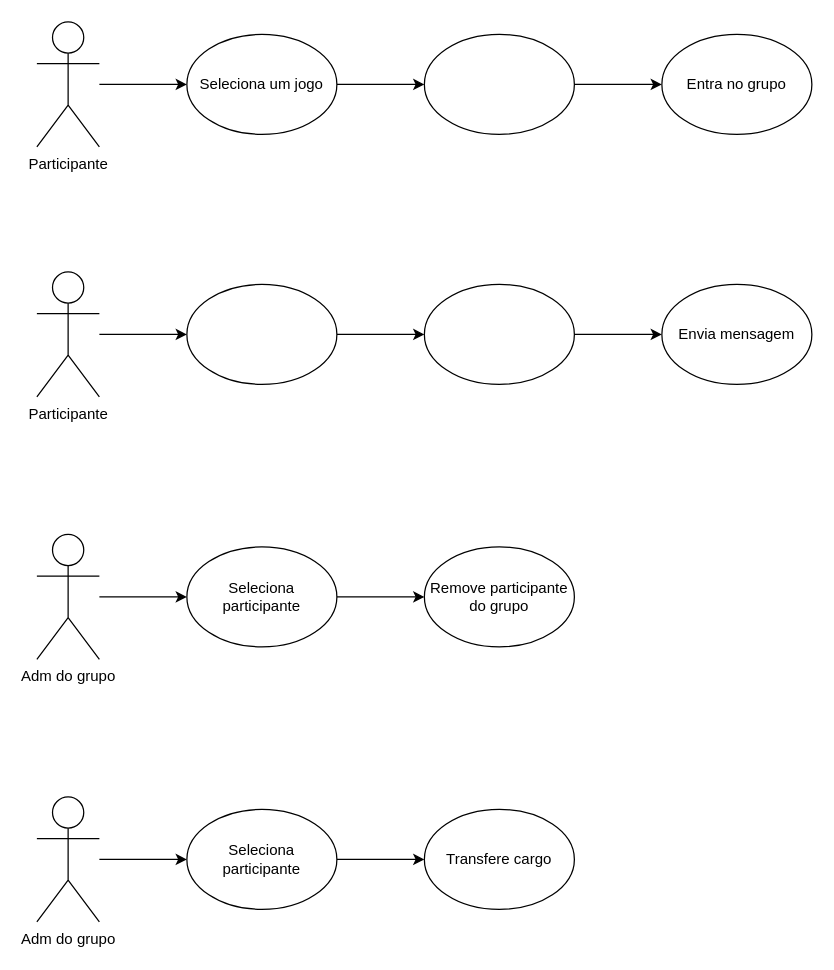
The diagram is 834 pixels wide and 970 high, and some of its shapes have lost their labels. The shapes that lost their labels are listed below. From the top down, each one's centre as x and y in pixels, then its label:
At [498,83]: "Verifica os grupos disponíveis".
At [261,333]: "Seleciona um grupo".
At [498,333]: "Entra no chat".
